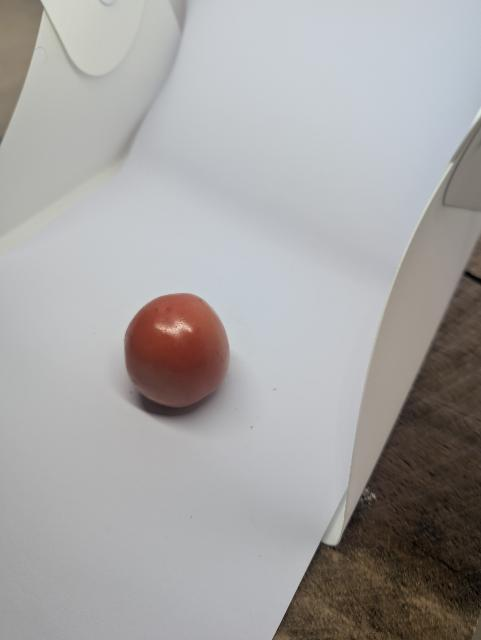red: (115, 286, 241, 429)
